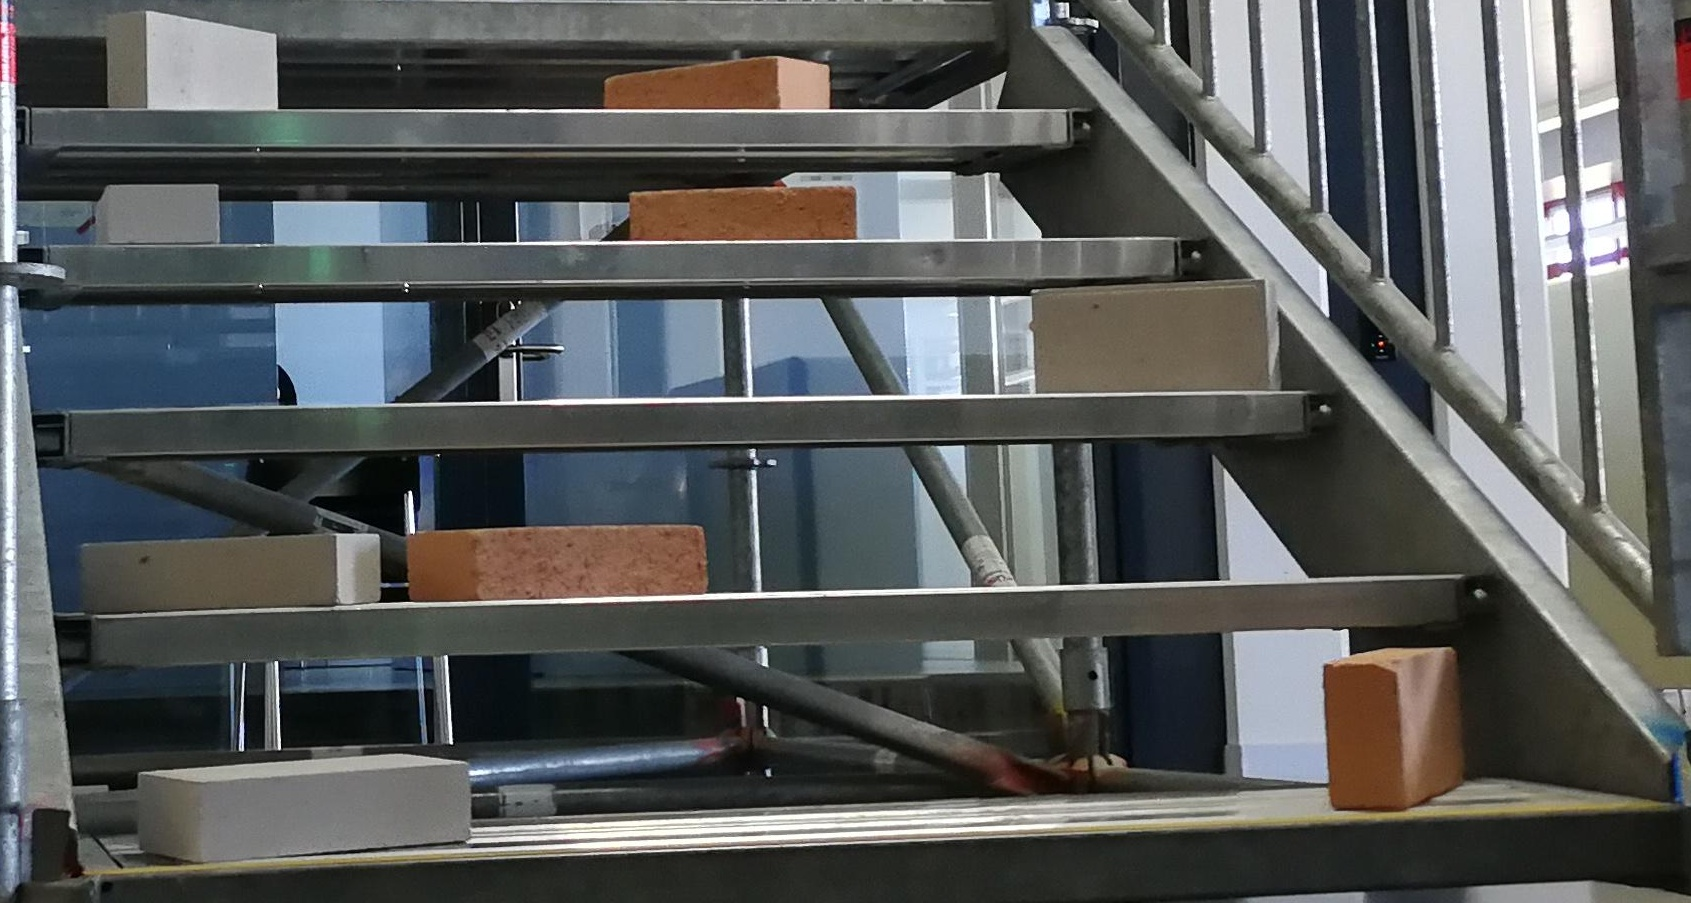brick: (139, 759, 469, 855), (1031, 274, 1279, 394), (1322, 646, 1462, 810), (82, 534, 379, 606), (412, 524, 705, 593), (107, 12, 276, 112), (631, 182, 854, 241), (605, 55, 829, 110), (100, 184, 217, 244)
edge: (66, 805, 1687, 903), (51, 576, 1484, 660), (34, 386, 1342, 454), (19, 237, 1208, 285), (30, 109, 1095, 148)
